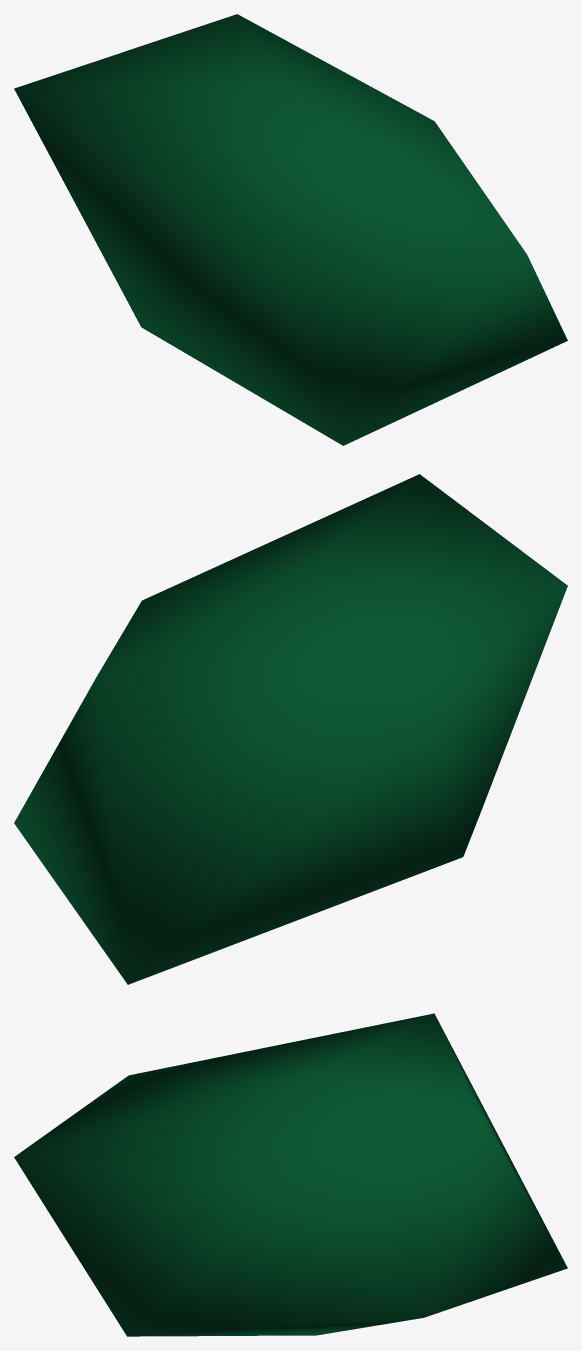
File: Bush8.fbx
3 views of the same model, one above another, from view 1: azimuth 30°, elevation 25°; view 2: azimuth 150°, elevation 25°; view 3: azimuth 270°, elevation 25° (orthographic). The views are drawn at different scales.
Visible parts, largest first — view 1: Bush8; view 2: Bush8; view 3: Bush8.
Part boxes in pixels (bbox=[...]): Bush8: bbox=[14, 14, 567, 445]; Bush8: bbox=[14, 474, 567, 984]; Bush8: bbox=[14, 1013, 567, 1336].
Size of the model in its own units: 35.76 by 25.7 by 55.68.
